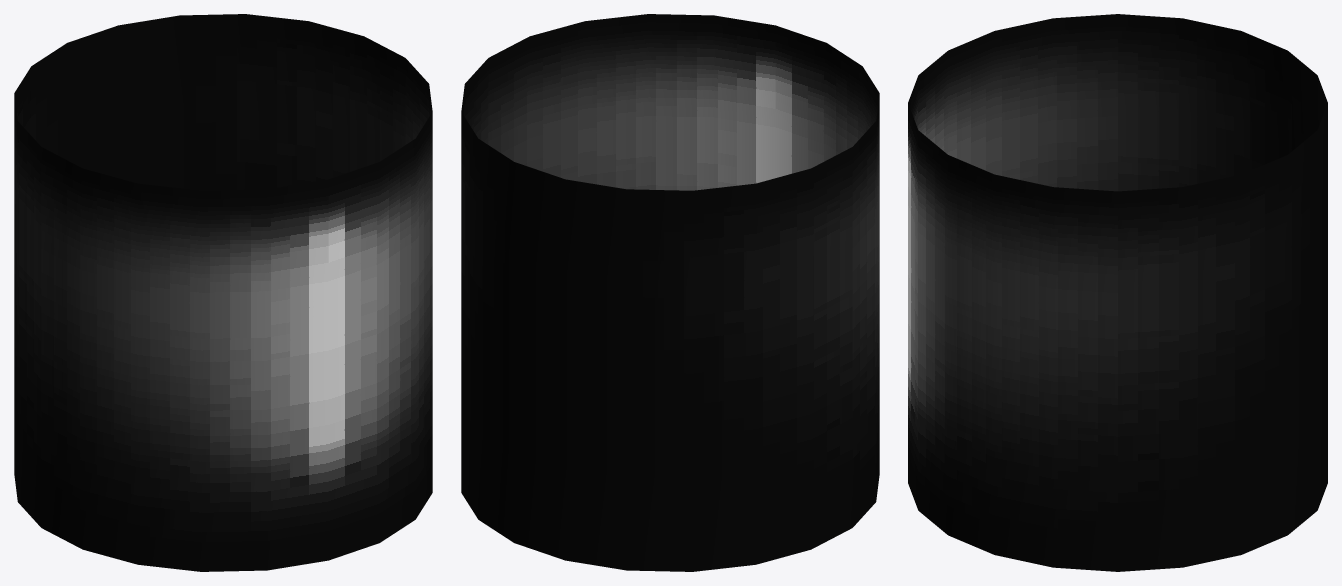
The model's file is 0259_cjphl_ring_z01.glb.
3 renders of one model, left to right at view 1: azimuth 30°, elevation 25°; view 2: azimuth 150°, elevation 25°; view 3: azimuth 270°, elevation 25°, orthographic.
Bounding box in the file's own units: 2.2 × 2.2 × 2.2.
Materials: 1 (1 with a texture image).
